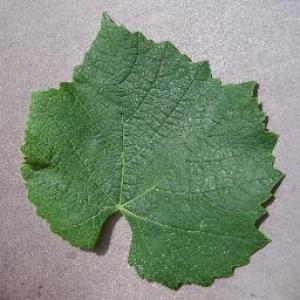Folha: (19, 11, 285, 290)
